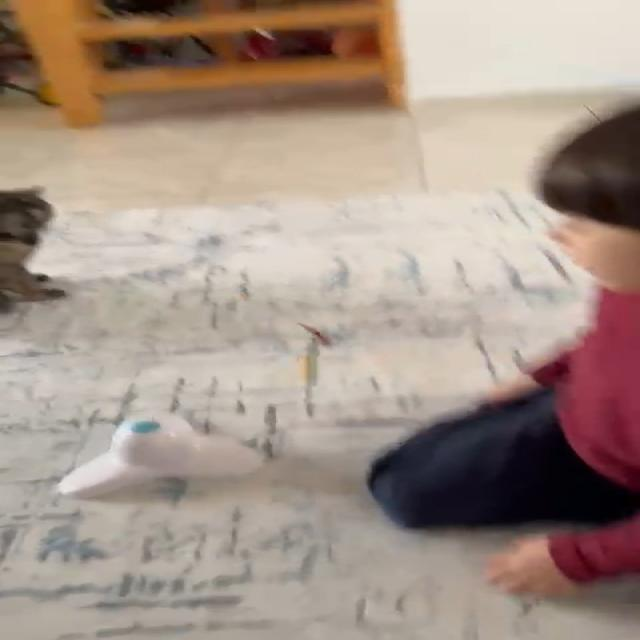authorized: (55, 414, 265, 506)
